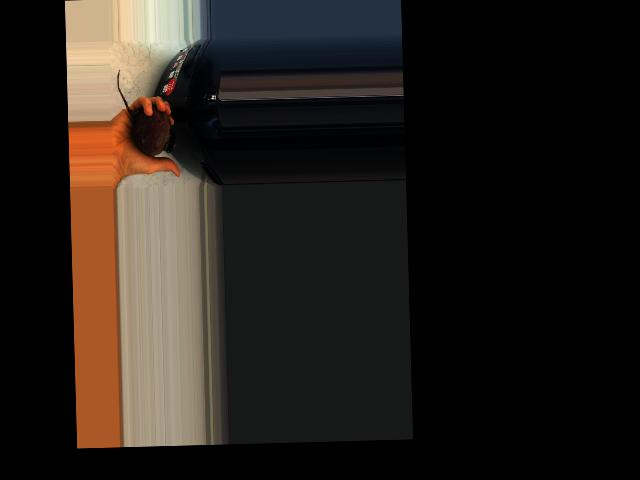beet: (116, 67, 175, 156)
